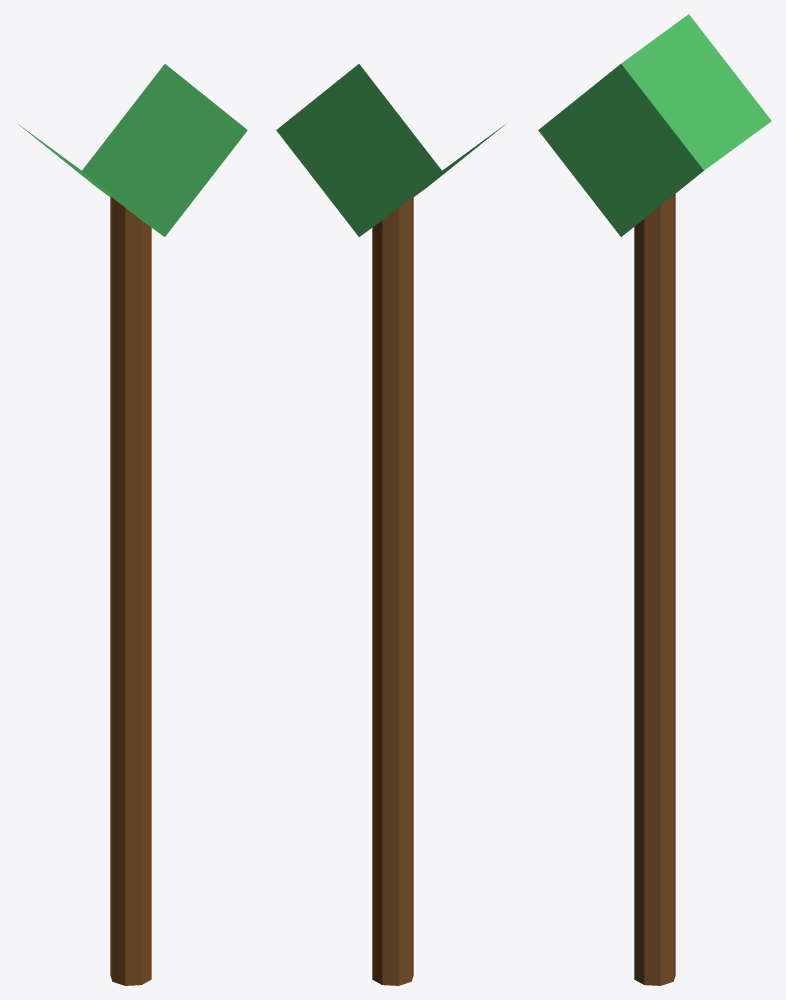
Rendered from natures-prophet.glb.
3 views of the same model, side by side, from view 1: azimuth 30°, elevation 25°; view 2: azimuth 150°, elevation 25°; view 3: azimuth 330°, elevation 25° (orthographic).
Parts seen in each view (by area): view 1: natures-prophet-shaft, natures-prophet-head-gem; view 2: natures-prophet-shaft, natures-prophet-head-gem; view 3: natures-prophet-shaft, natures-prophet-head-gem.
Part boxes in pixels (x1,y1,x2,y2): natures-prophet-shaft: [110, 196, 151, 985]; natures-prophet-head-gem: [17, 64, 247, 236]; natures-prophet-shaft: [372, 196, 413, 985]; natures-prophet-head-gem: [276, 64, 506, 236]; natures-prophet-shaft: [634, 194, 675, 985]; natures-prophet-head-gem: [538, 14, 771, 236].
Bounding box in the file's own units: 0.3111 × 1.68 × 0.22.
